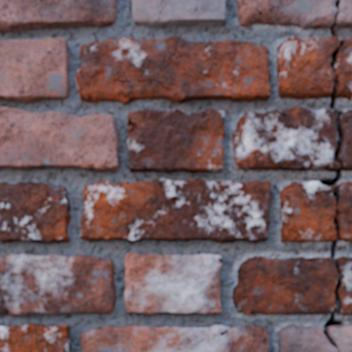brick: (76, 36, 270, 103), (81, 179, 269, 241), (0, 108, 118, 170), (0, 254, 114, 315), (128, 109, 223, 172), (125, 253, 221, 314), (81, 325, 268, 351), (0, 38, 68, 102), (0, 183, 69, 241), (0, 0, 116, 31), (132, 0, 225, 26), (0, 324, 69, 351)
broken_brick: (231, 106, 338, 172), (232, 256, 336, 315), (276, 35, 338, 99), (280, 180, 335, 243), (236, 0, 335, 29), (277, 324, 351, 351), (336, 36, 351, 100), (338, 255, 351, 315), (339, 181, 351, 235), (342, 109, 351, 171), (335, 0, 351, 29), (339, 239, 351, 242)
crack: (318, 0, 351, 349), (127, 117, 137, 132), (219, 326, 233, 336), (129, 164, 145, 168), (217, 254, 222, 263)
